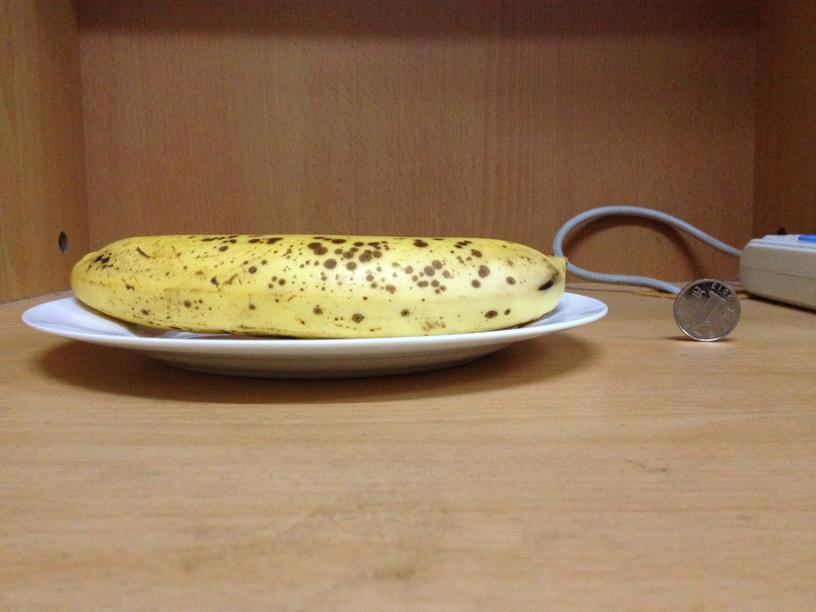banana: (64, 231, 567, 338)
coin: (675, 276, 740, 341)
